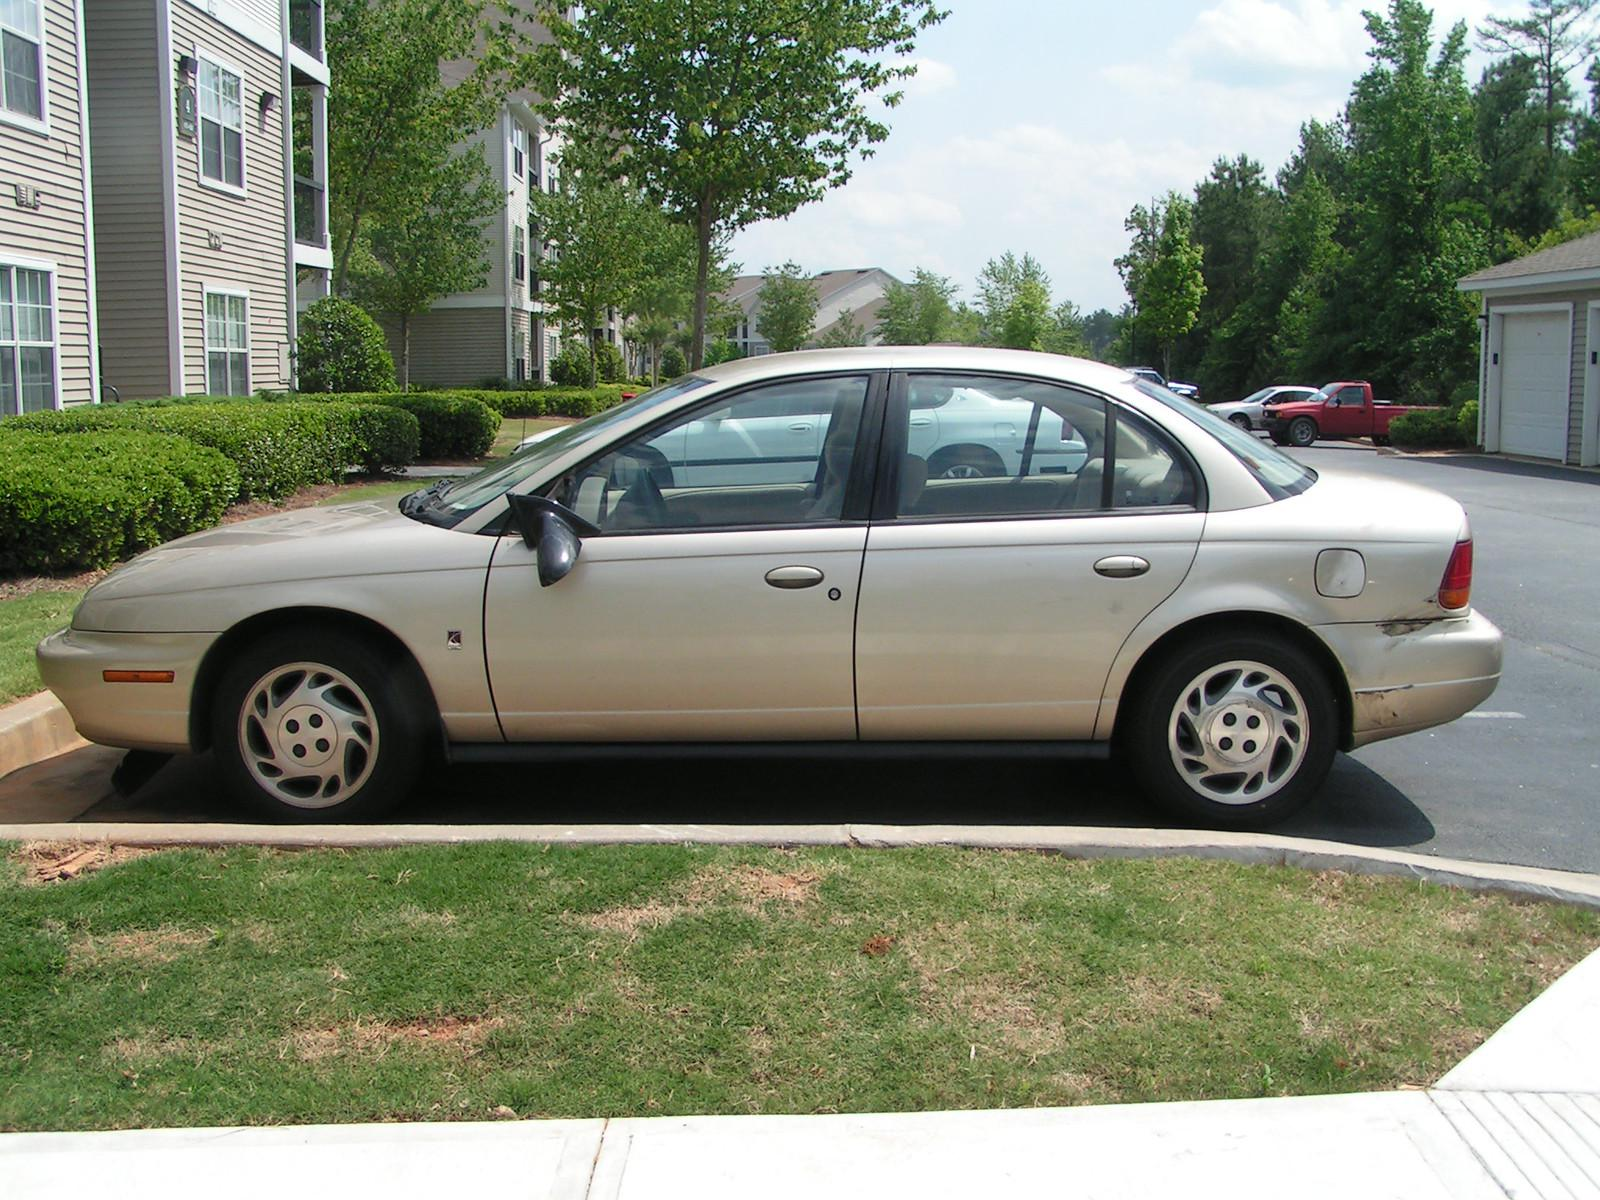quaterpanel-dent: (1188, 523, 1483, 736)
